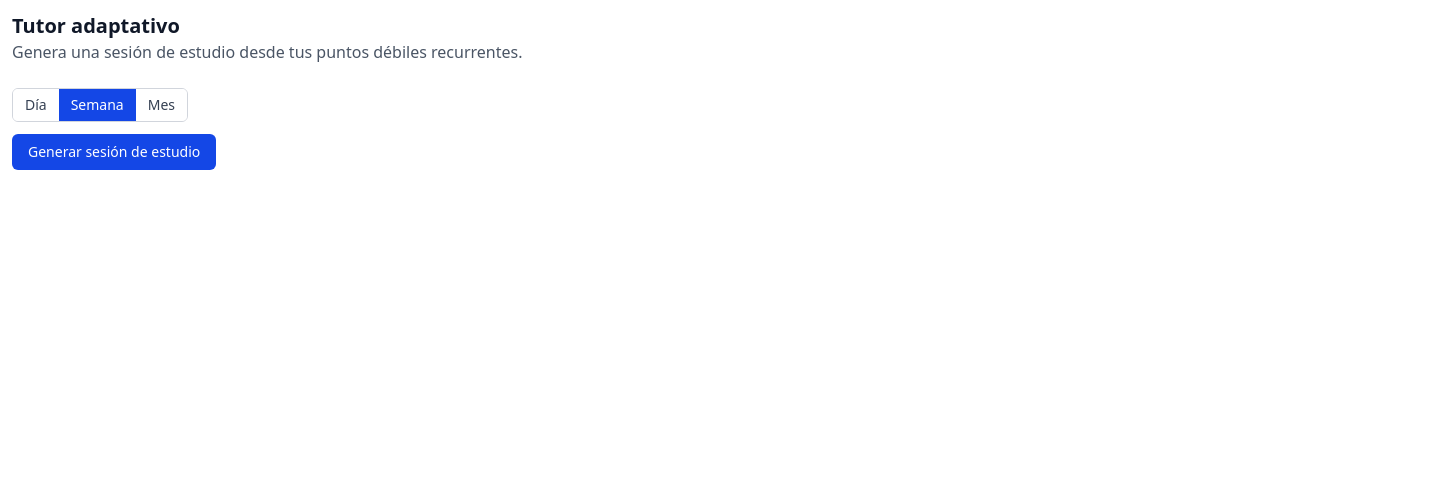
Test: StudySession › genera y muestra la sesión de estudio
Click the button "Generar sesión de estudio".
click(114, 152)  # box [12,134,216,170]
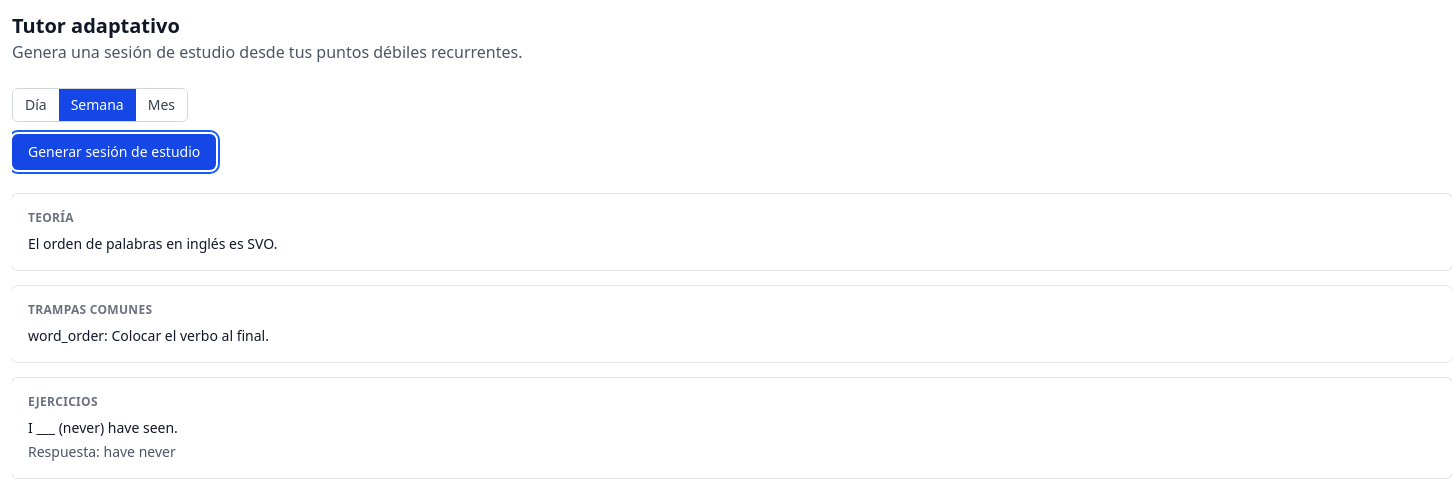
Result: the text "El orden de palabras en inglés es SVO." is shown at [28,234,277,253]
Result: the list item "word_order: Colocar el verbo al final." is shown at [28,326,269,345]
Result: the text "I ___ (never) have seen." is shown at [28,418,178,437]
